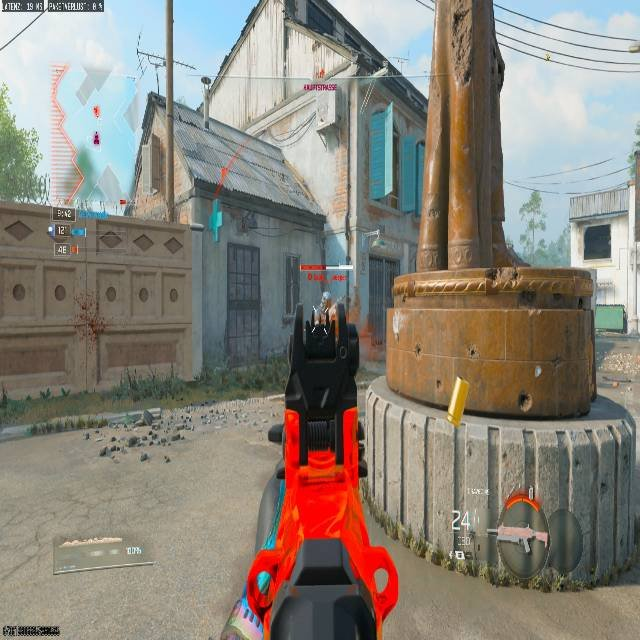player: (320, 292, 337, 329)
